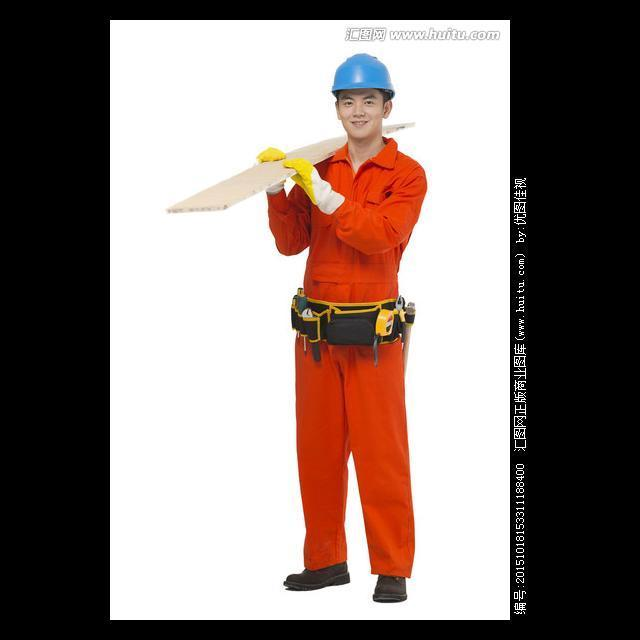Capacete: (332, 53, 394, 97)
